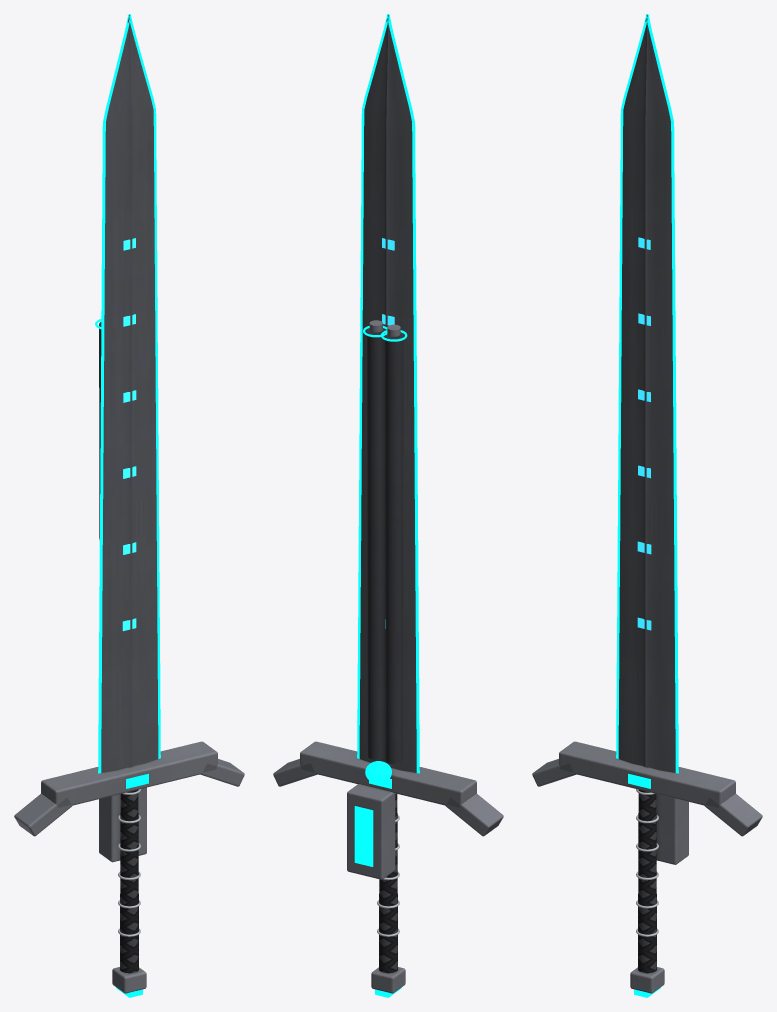
3 renders of one model, left to right at view 1: azimuth 30°, elevation 25°; view 2: azimuth 150°, elevation 25°; view 3: azimuth 330°, elevation 25°, orthographic.
Visible parts, largest first — view 1: kat_blade, kat_plate, glow_kat_edge, kat_wrap, glow_kat_line; view 2: kat_blade, kat_dark, kat_plate, glow_kat_edge, glow_kat_rim, kat_wrap; view 3: kat_blade, kat_plate, glow_kat_edge, kat_wrap, glow_kat_line.
Boxes of the visible parts, x1,y1,x2,y2 form: kat_blade: (101, 14, 158, 772); kat_plate: (14, 741, 244, 993); glow_kat_edge: (98, 14, 160, 773); kat_wrap: (120, 789, 138, 973); glow_kat_line: (122, 238, 136, 631); kat_blade: (359, 14, 416, 772); kat_dark: (367, 328, 403, 764); kat_plate: (273, 320, 503, 993); glow_kat_edge: (357, 14, 419, 773); glow_kat_rim: (354, 325, 407, 997); kat_wrap: (379, 793, 397, 973); kat_blade: (618, 14, 675, 772); kat_plate: (532, 741, 762, 993); glow_kat_edge: (616, 14, 678, 773); kat_wrap: (638, 789, 656, 973); glow_kat_line: (637, 237, 651, 630).
Bounding box in the file's own units: 0.4793 × 2.07 × 0.1068.
Materials: 8 (5 with a texture image).
